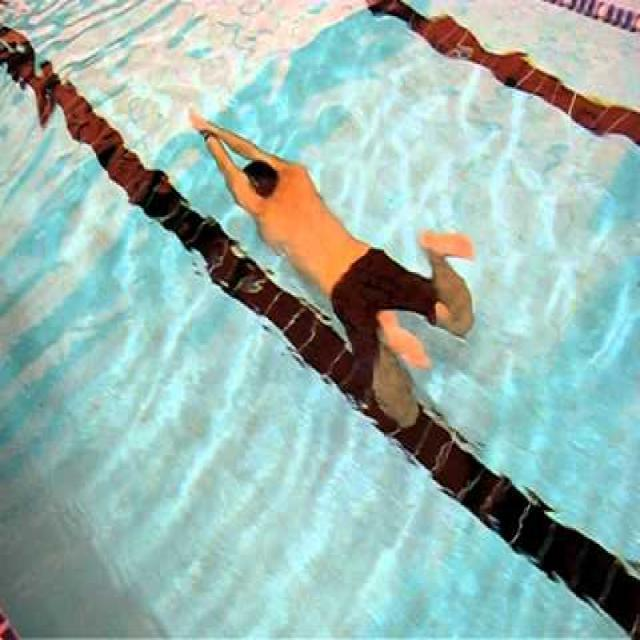Swimming: (188, 104, 478, 434)
